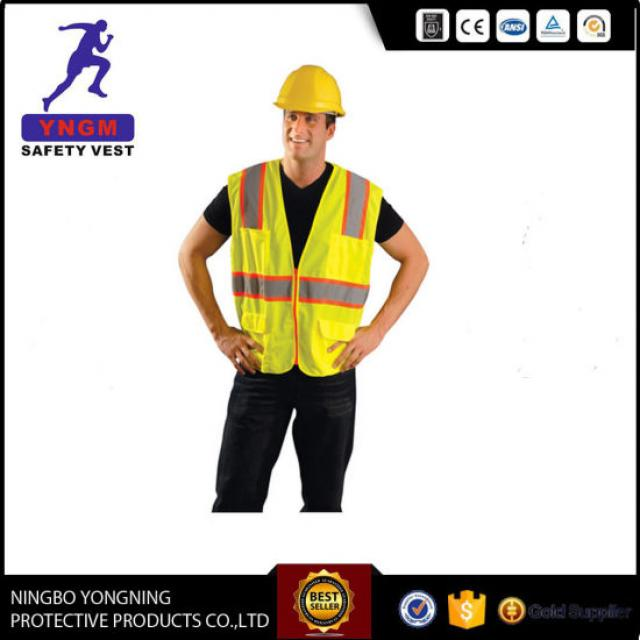Reflective-Jacket: (219, 160, 390, 380)
Safety-Helmet: (271, 62, 348, 118)
